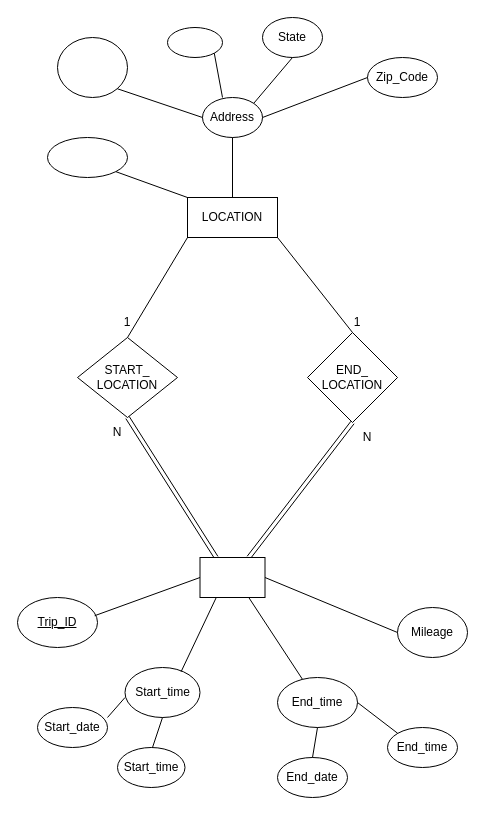
Some shapes in this 485 by 815 pixel diagram are drawn without their labels. The shapes that lost their labels are listed below. From the top down, each one's box as (x1, y1, x2, y2) in pixels, then its label:
(166, 26, 222, 58): City
(56, 36, 128, 98): Street_ address
(46, 136, 128, 178): Location_ID
(199, 556, 265, 598): TRIP
